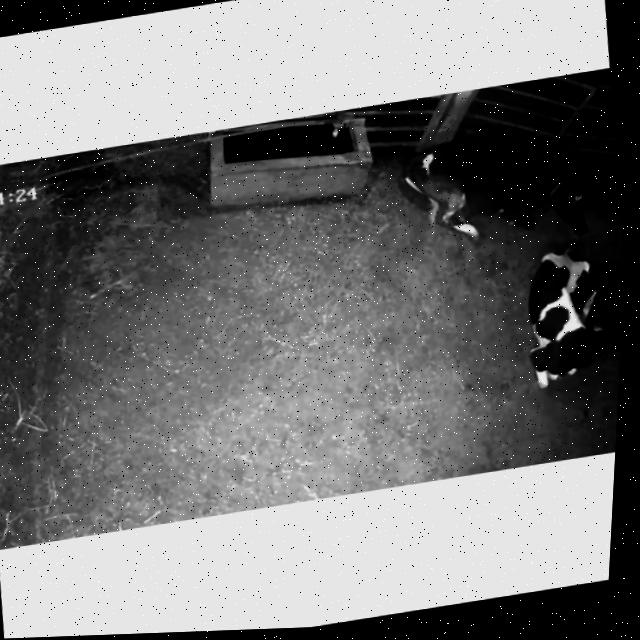lay: (398, 139, 586, 239), (528, 249, 607, 388)
